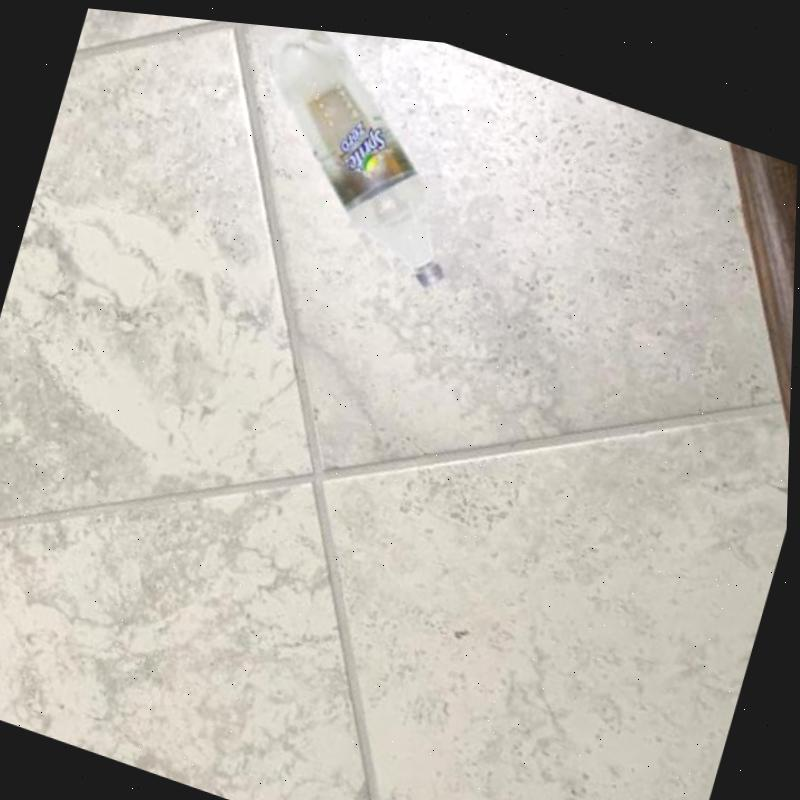botella: (223, 17, 502, 287)
